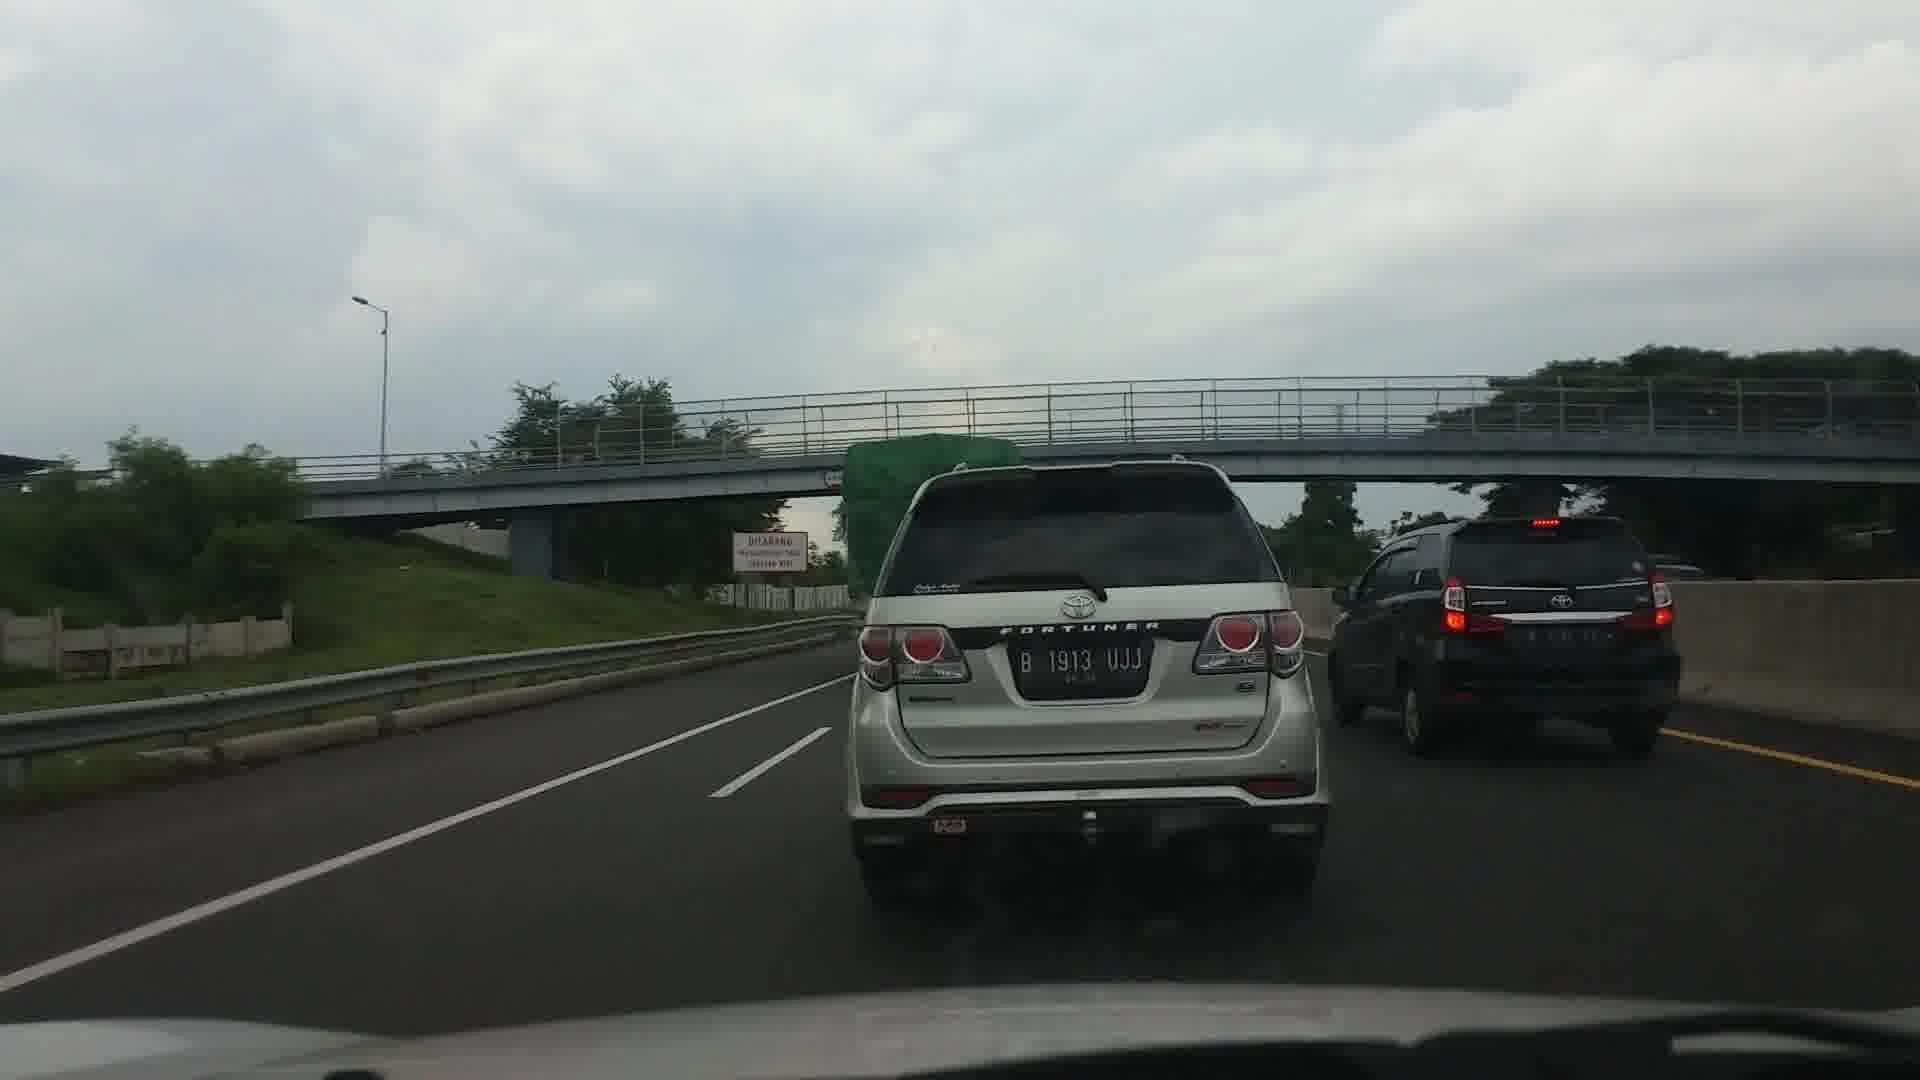plate_positive: (1017, 645, 1146, 684)
